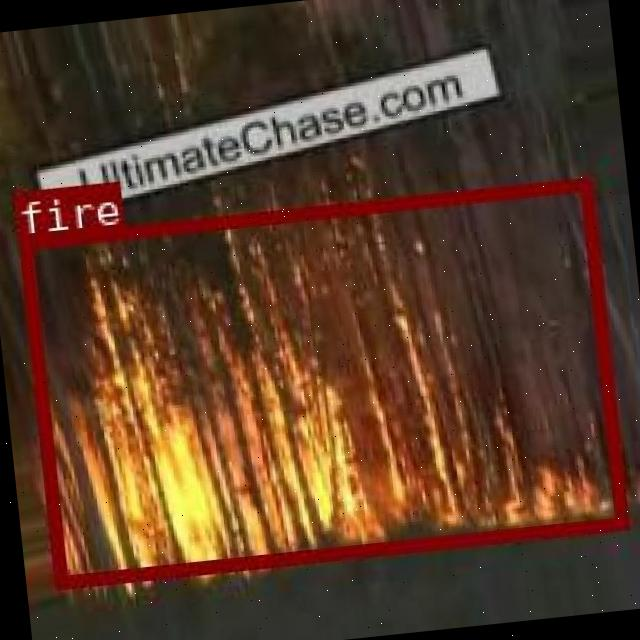fire: (18, 176, 624, 585)
